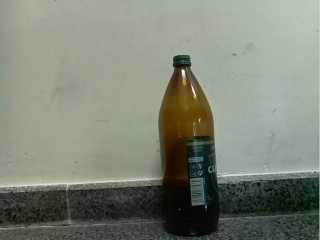pote cristal: (157, 54, 218, 236)
